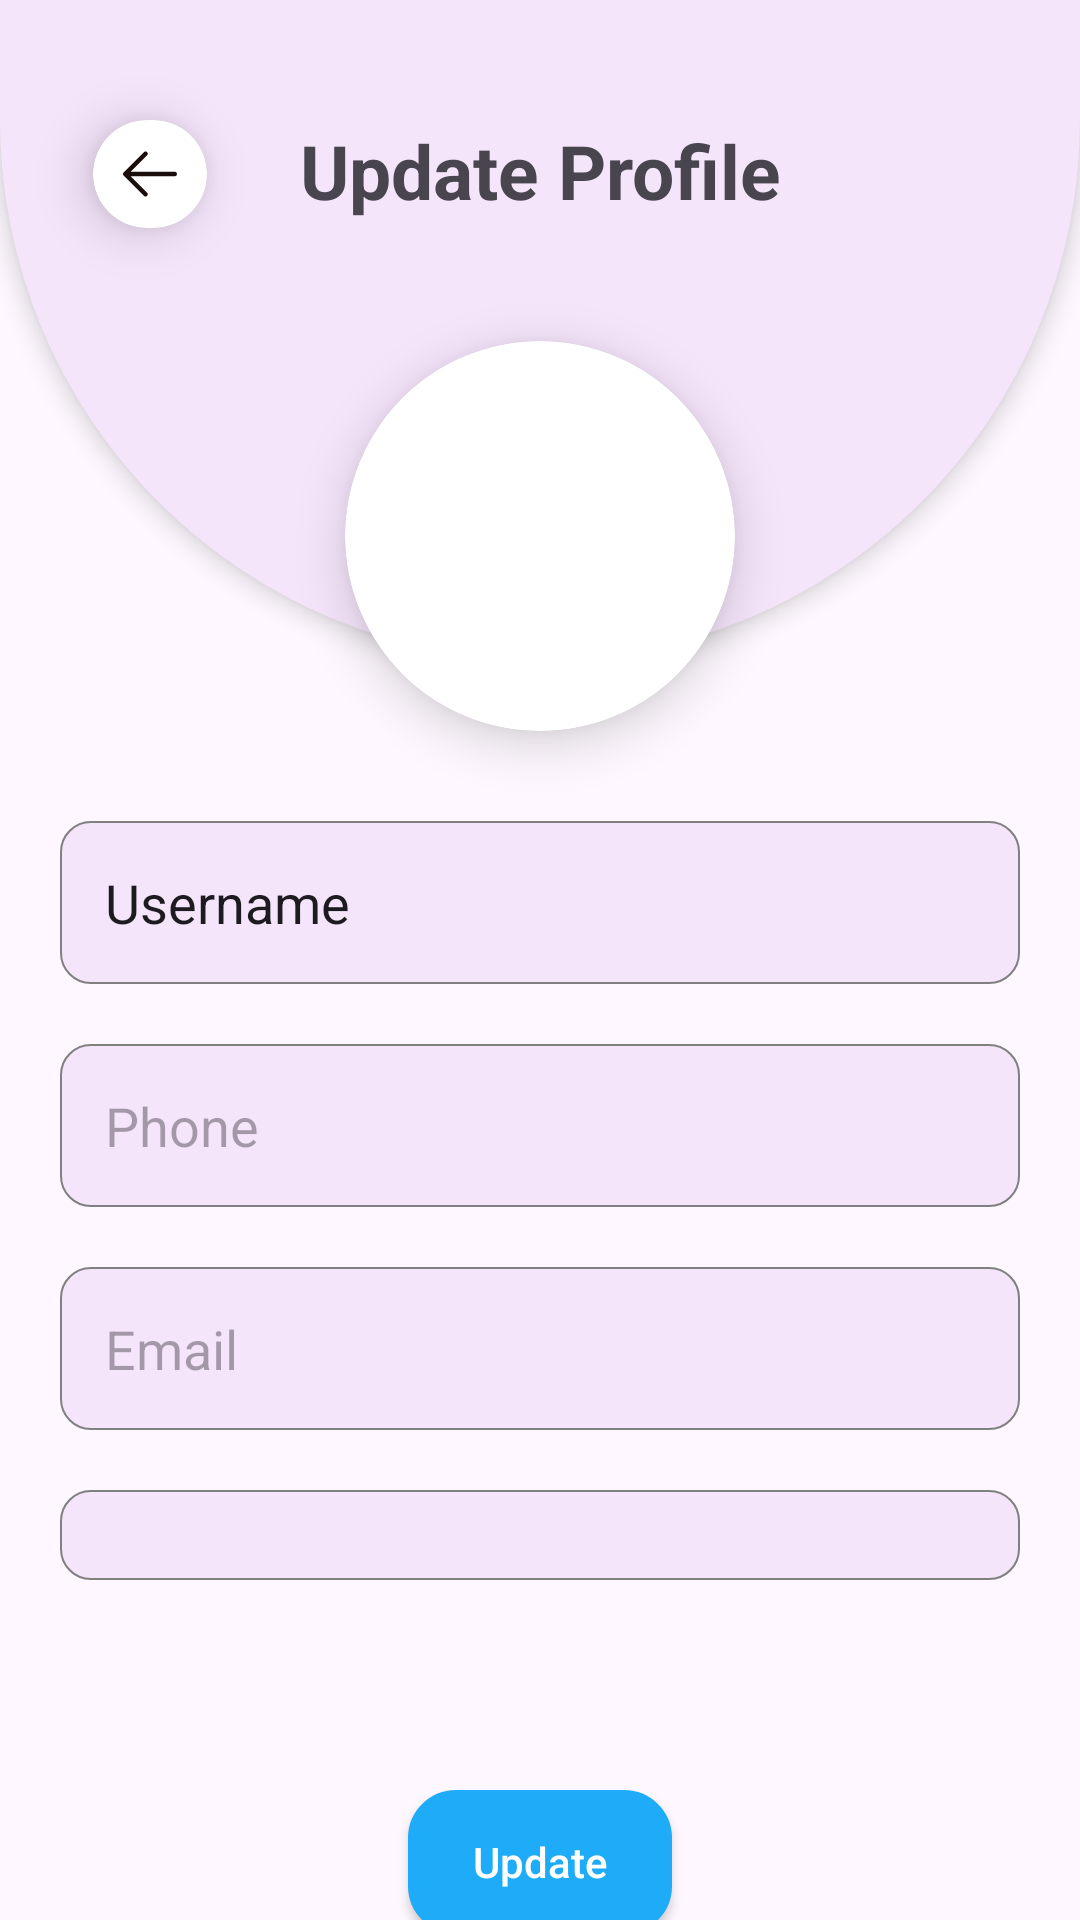

Locate icon controls on the screen. Image size 1080 × 1920, boxes as (x1, y1, x2, y2).
back: (123, 151, 177, 197)
